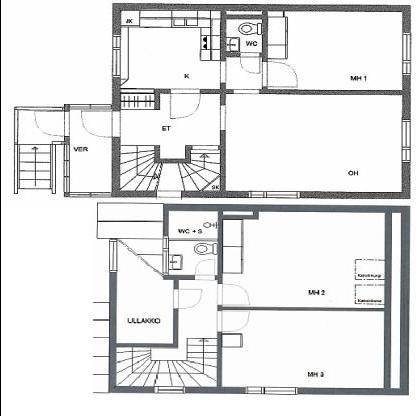door: (79, 107, 123, 139), (260, 60, 299, 92), (31, 108, 70, 138), (167, 86, 200, 120), (214, 280, 250, 308), (169, 287, 203, 311), (216, 309, 249, 333), (236, 49, 262, 77), (192, 256, 218, 284)
window: (239, 382, 301, 398), (245, 186, 300, 202), (108, 31, 124, 81), (152, 379, 186, 397)
